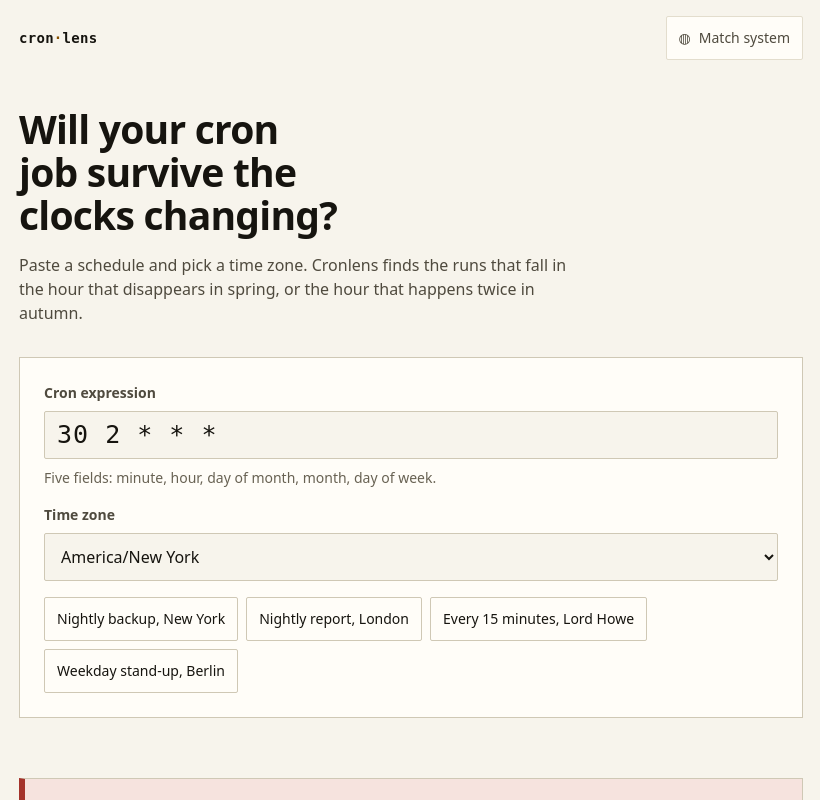
Cronlens › explains a bad expression next to the field and drops the stale results
Type "61 * * * *" into the field labelled "Cron expression".
click(411, 435); type("61 * * * *")  # box [44,411,778,459]
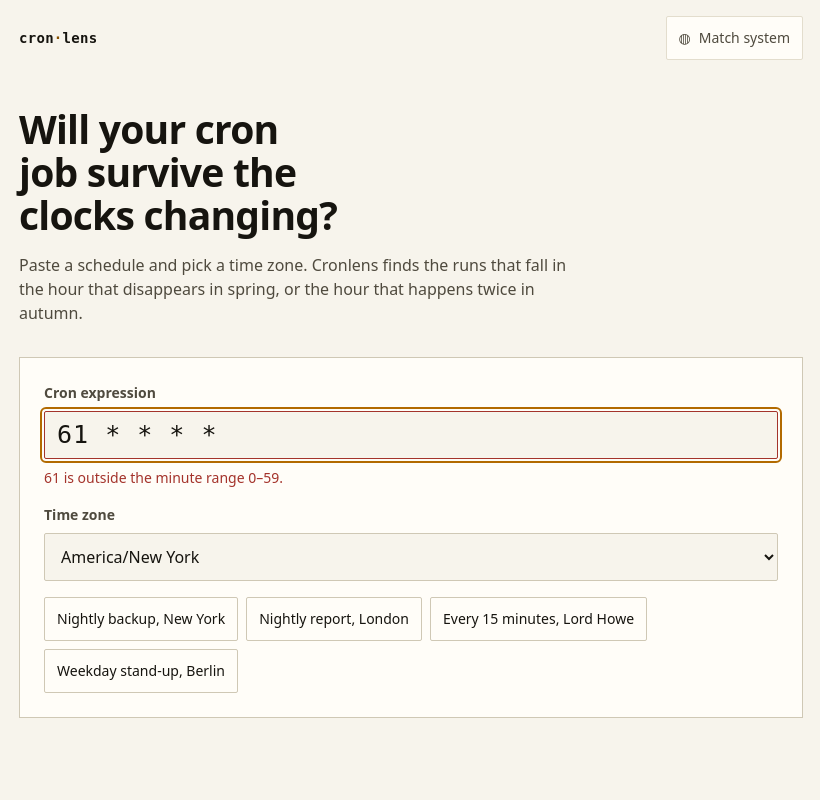
Check: the text "61 is outside the minute range 0–59." is shown, box [44,468,283,487]
